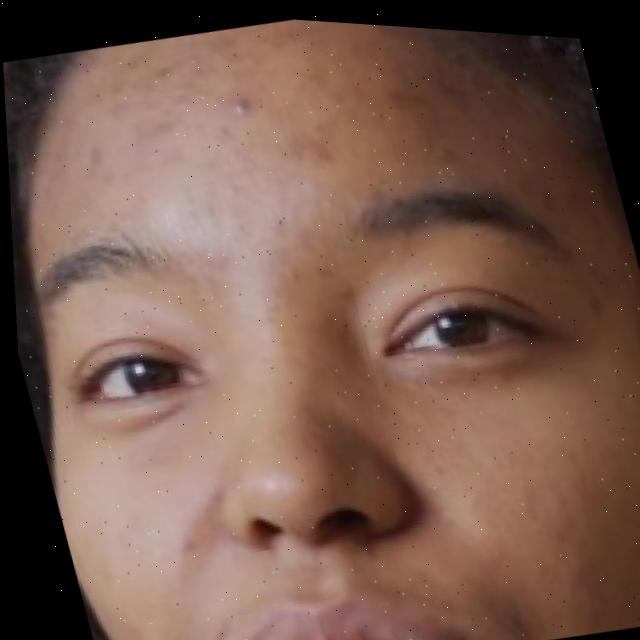Acne: (150, 10, 353, 203)
